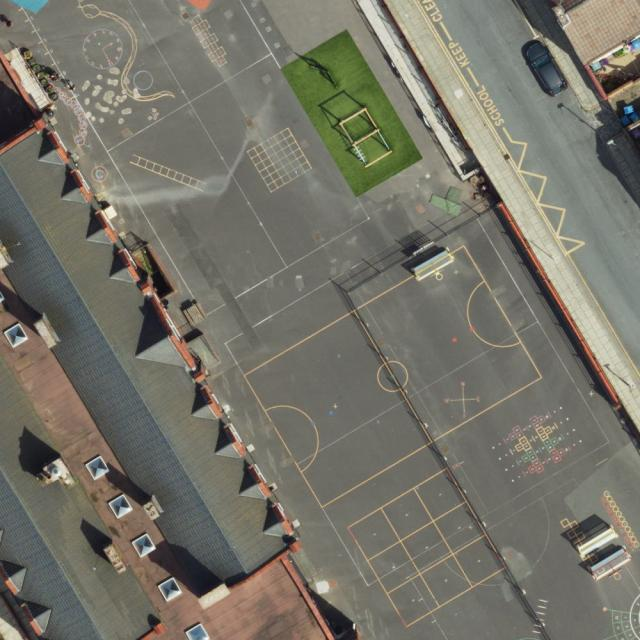roof: (0, 52, 336, 640), (552, 0, 640, 67)
skylight: (105, 490, 135, 521), (81, 451, 111, 481), (0, 319, 31, 348), (130, 530, 159, 561), (155, 572, 184, 603), (185, 620, 213, 640)
